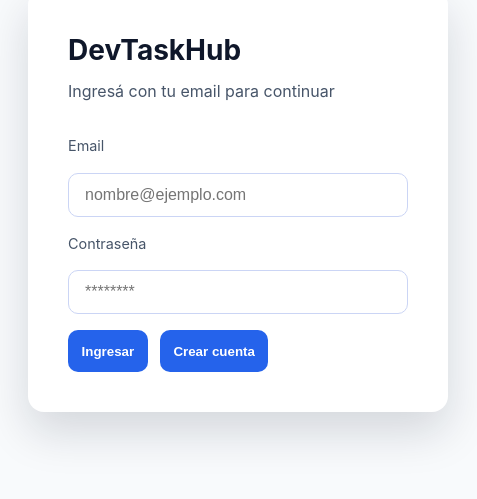
LoginPage › muestra error si los campos están vacíos al enviar
The width and height of the screenshot is (477, 499).
Click the button "Ingresar": click(108, 351) [68,330,148,372]
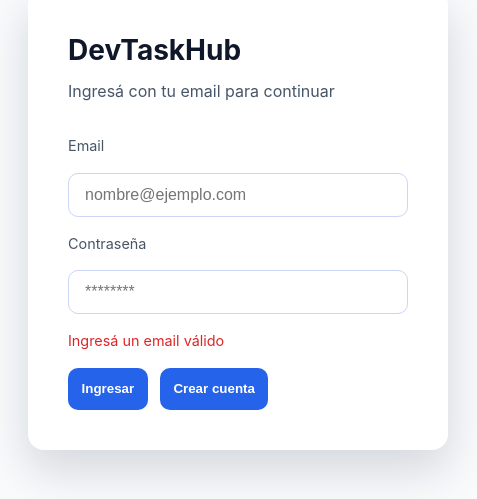
Expected: the text "Ingresá un email válido" is shown, [68,332,224,349]
